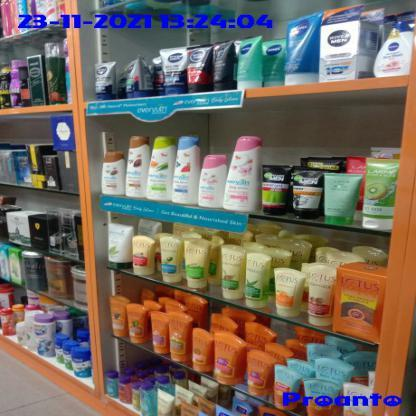Everyuth Naturals Body Lotion Nourishing Cocoa 200ml: (124, 134, 148, 198), (101, 154, 125, 196)
Everyuth Naturals Body Lotion Rejuvenating Flora 200ml: (226, 136, 262, 212), (199, 153, 222, 209)
Everyuth Naturals Body Lotion Soothing Citrus 200ml: (150, 136, 176, 202)
Everyuth Naturals Body Lotion Sun Care Berries SPF 15 200ml: (173, 136, 198, 206)
